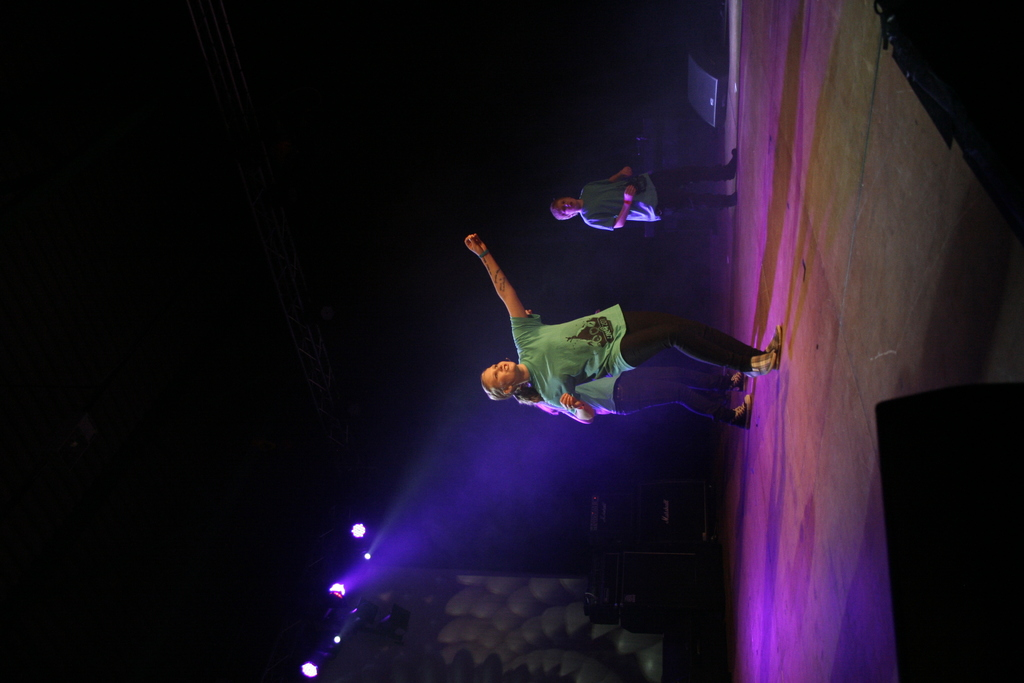Person: (464, 233, 782, 419), (550, 148, 737, 230)
